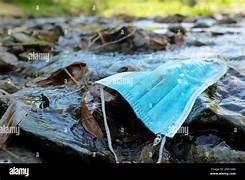Mask: (97, 60, 226, 137)
